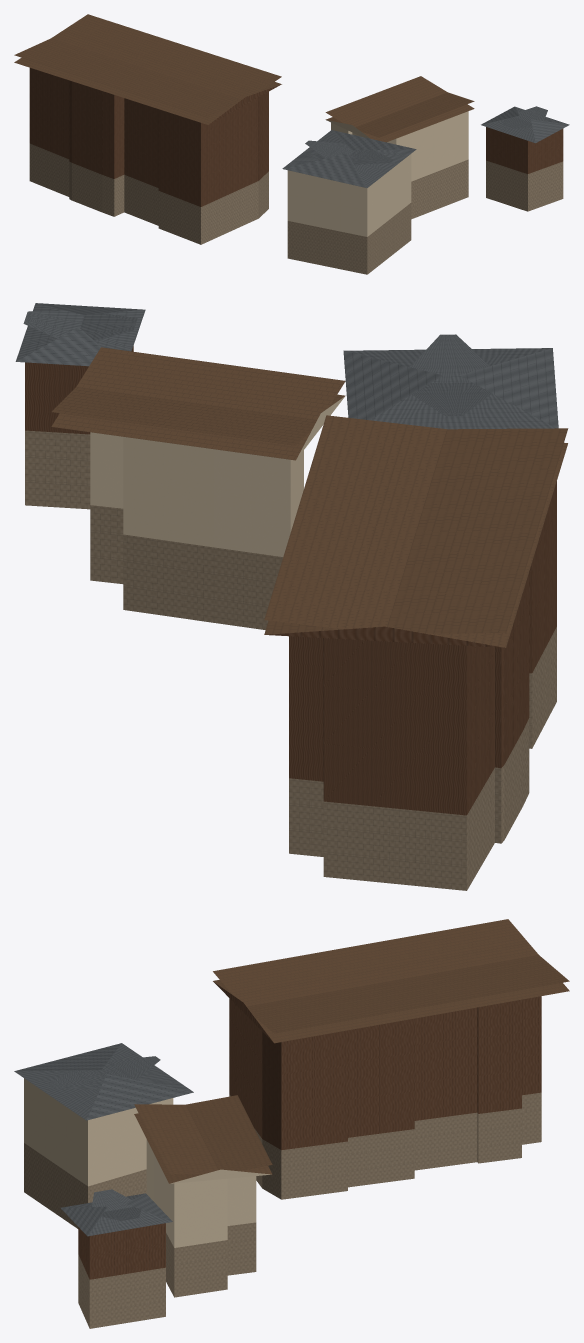
The model's file is bld_c9_19_427.gltf.
The picture shows the model from 3 angles, top to bottom: view 1: azimuth 30°, elevation 25°; view 2: azimuth 150°, elevation 25°; view 3: azimuth 270°, elevation 25°; orthographic projection. The views are drawn at different scales.
Parts seen in each view (by area): view 1: bld_c9_19_427; view 2: bld_c9_19_427; view 3: bld_c9_19_427.
Part boxes in pixels (bbox=[...]): bld_c9_19_427: bbox=[14, 14, 569, 274]; bld_c9_19_427: bbox=[15, 303, 568, 890]; bld_c9_19_427: bbox=[14, 919, 569, 1328].
Bounding box in the file's own units: 55.97 × 17.8 × 51.91.
7 materials, 7 textured.
